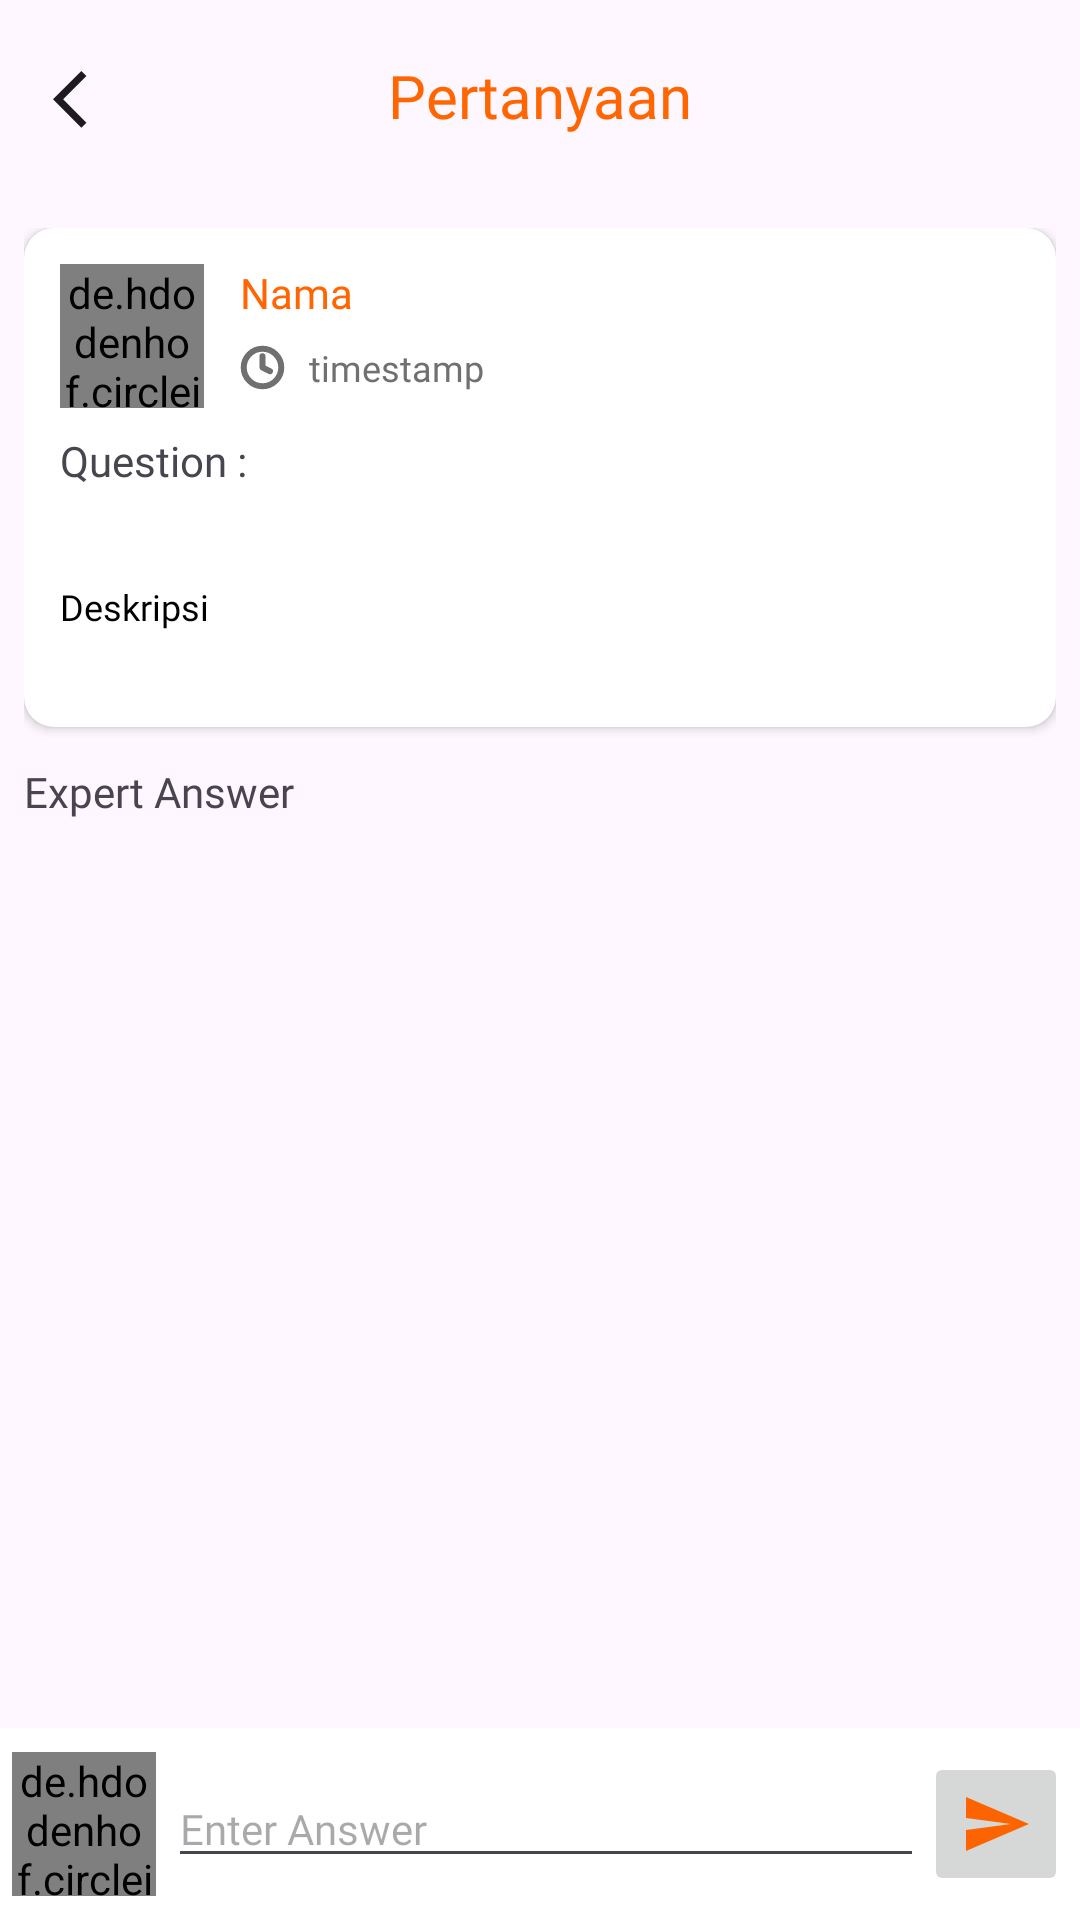

Locate icon controls on the screen. Image size 1080w x 1920h, boxes as rect(x1, y1, x2, y2).
clock: rect(240, 345, 285, 390)
send: rect(936, 1770, 1056, 1878)
